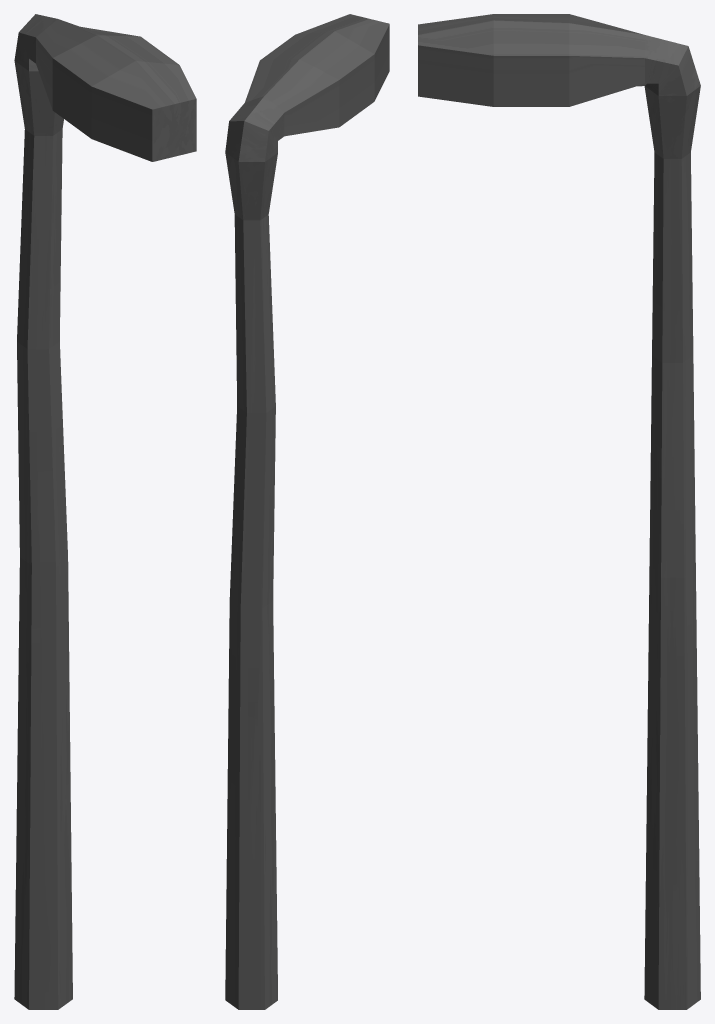
The model's file is City_StreetLight.fbx.
3 views of the same model, side by side, from view 1: azimuth 30°, elevation 25°; view 2: azimuth 150°, elevation 25°; view 3: azimuth 270°, elevation 25° (orthographic). The views are drawn at different scales.
Parts seen in each view (by area): view 1: mesh_lightpost; view 2: mesh_lightpost; view 3: mesh_lightpost.
Part boxes in pixels (x1=…): mesh_lightpost: x1=14, y1=14, x2=196, y2=1009; mesh_lightpost: x1=225, y1=14, x2=389, y2=1009; mesh_lightpost: x1=418, y1=14, x2=700, y2=1009.
Bounding box in the file's own units: 39.28 × 429 × 112.
2 materials, 2 textured.
